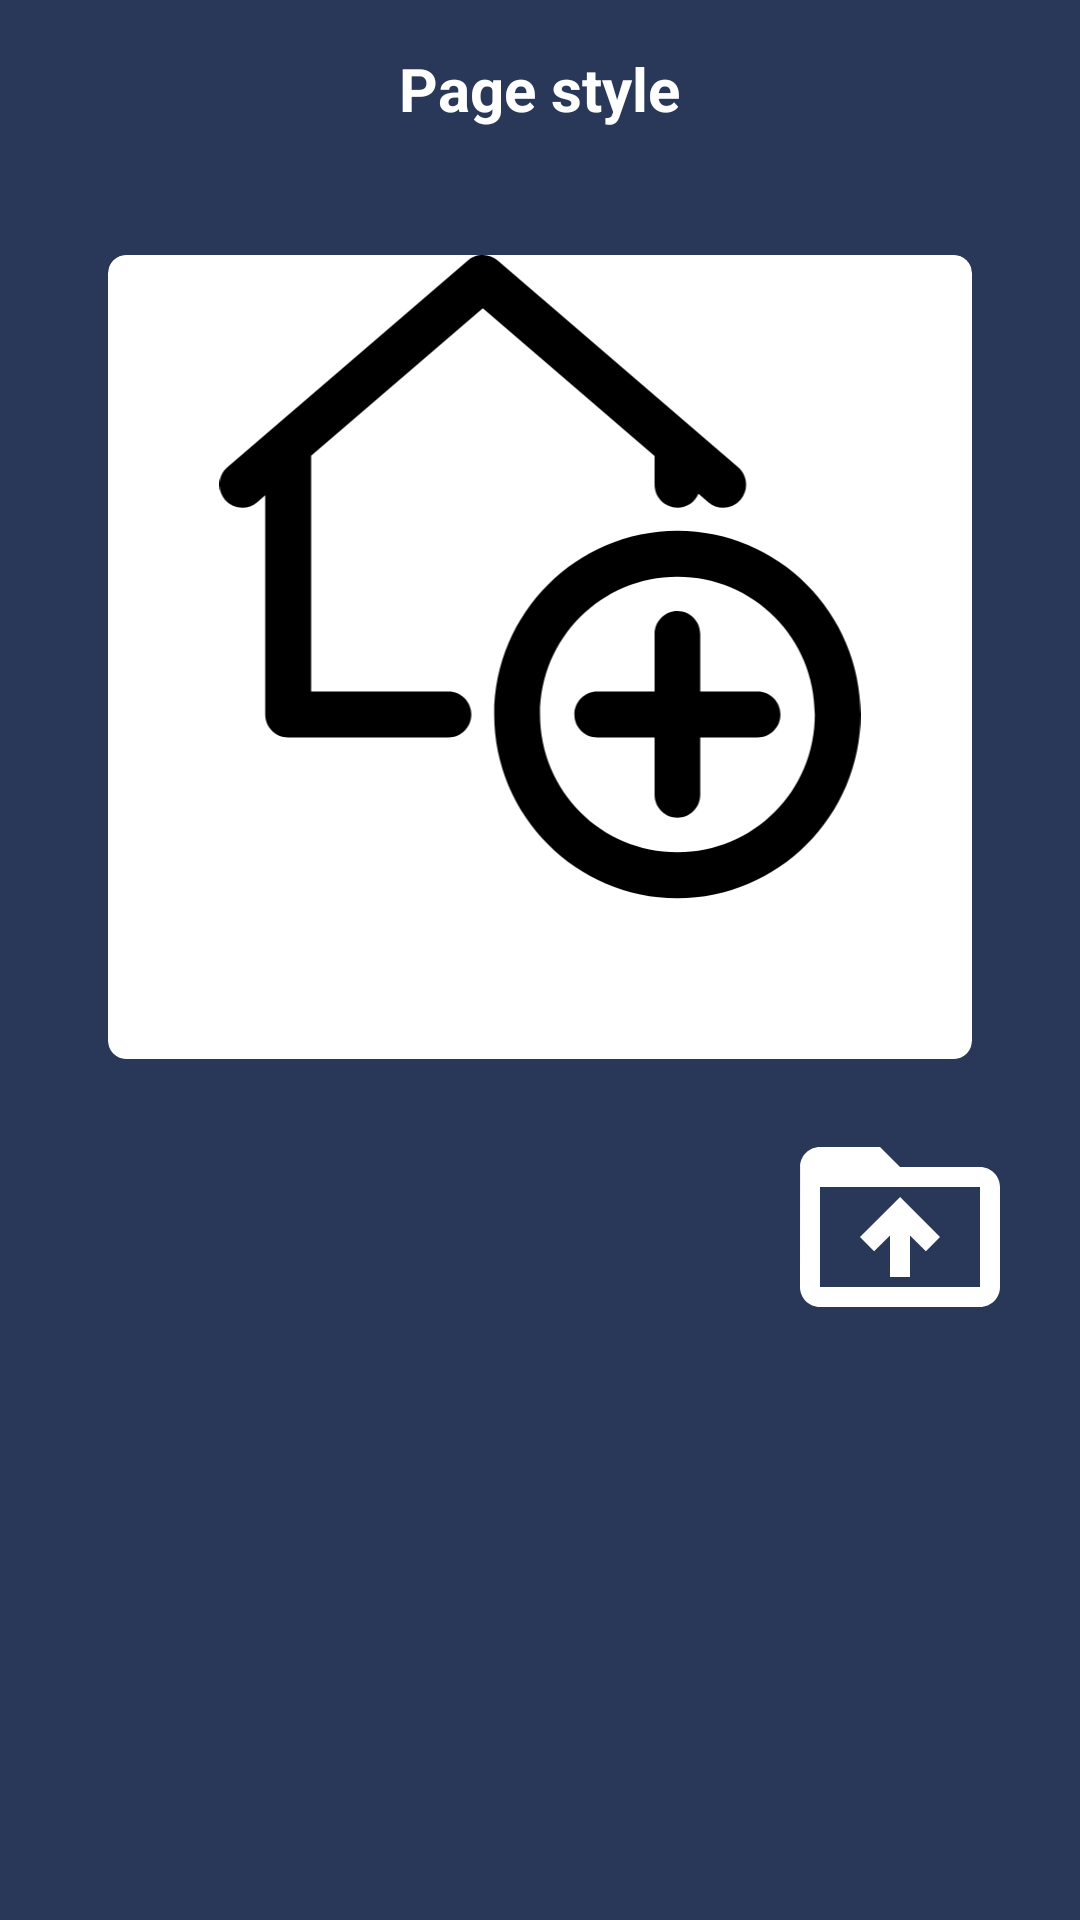

Icons on this 1080px x 1920px Android screen, each with the point to tap as point (x, y):
drive folder upload: point (900, 1227)
